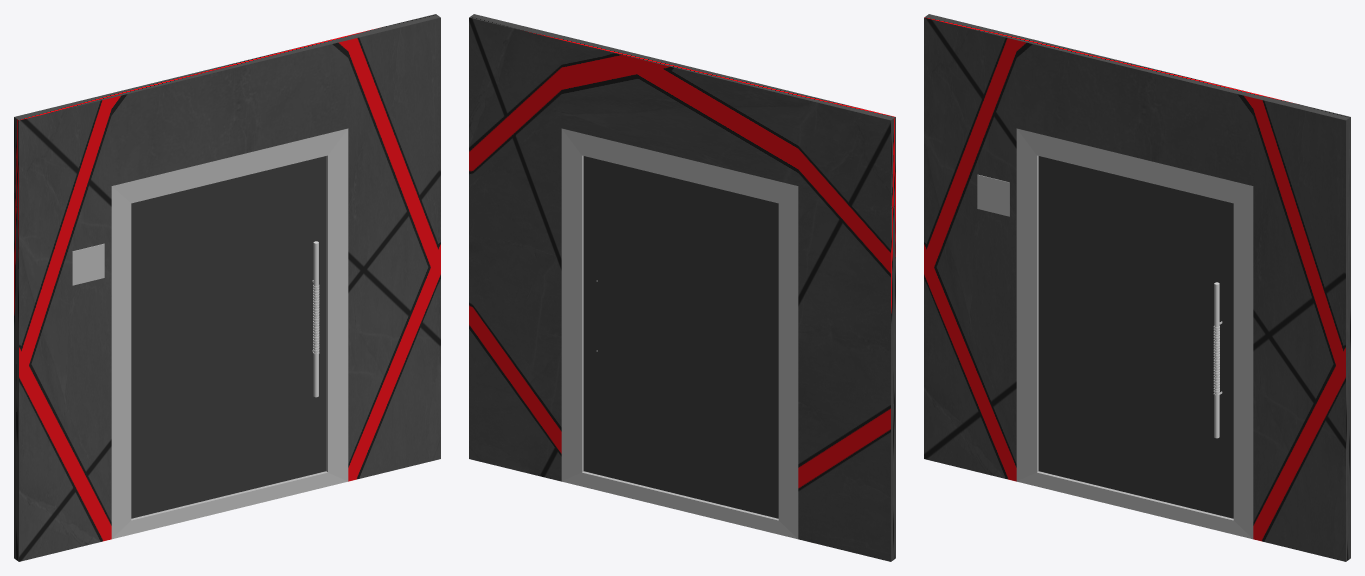
Rendered from RestroomDoor.fbx.
3 renders of one model, left to right at view 1: azimuth 30°, elevation 25°; view 2: azimuth 150°, elevation 25°; view 3: azimuth 330°, elevation 25°, orthographic.
Parts seen in each view (by area): view 1: RestroomLgo_Albedo; view 2: RestroomLgo_Albedo; view 3: RestroomLgo_Albedo.
Boxes of the visible parts, <box> form: RestroomLgo_Albedo: <box>14,14,440,561</box>; RestroomLgo_Albedo: <box>469,14,895,561</box>; RestroomLgo_Albedo: <box>924,14,1350,561</box>.
Bounding box in the file's own units: 500 × 500 × 17.84.
